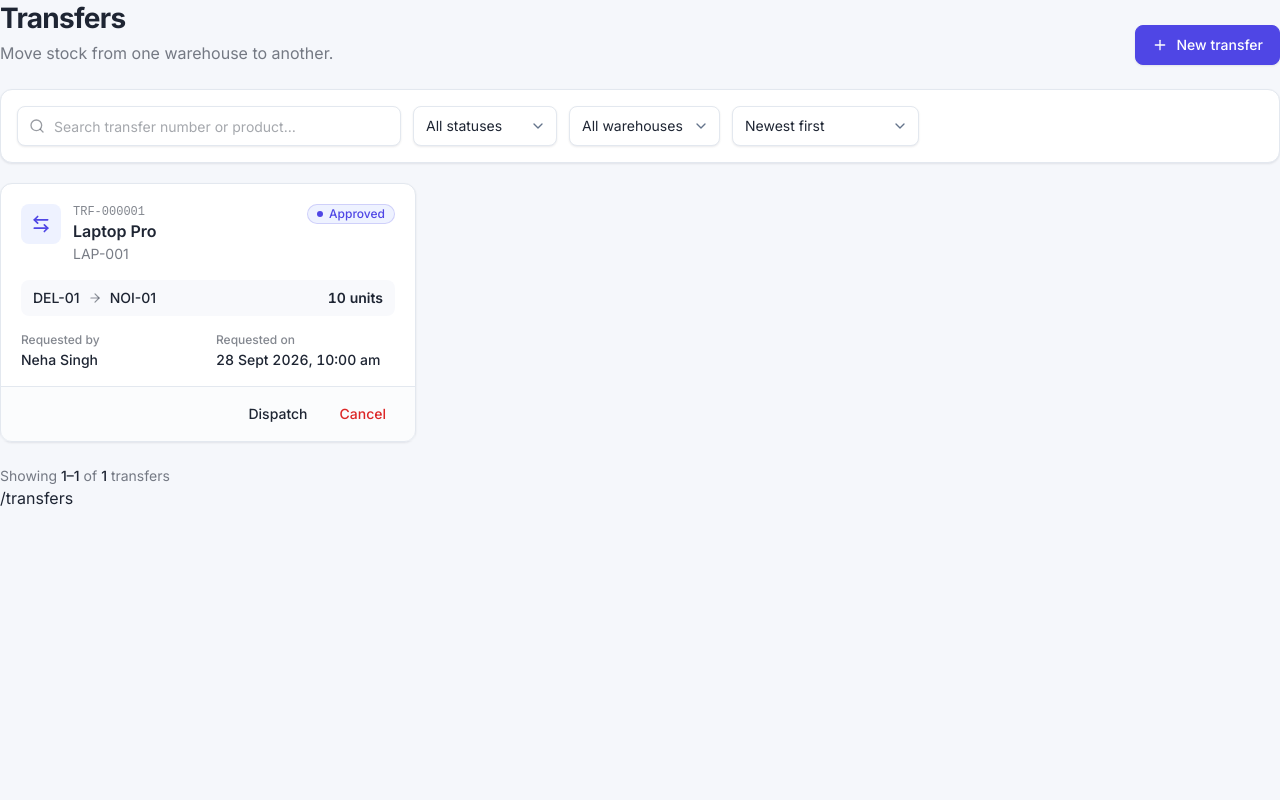
Test case: TransfersPage › cancel works with or without a reason
The image size is (1280, 800).
Click the button with aria-label "Cancel TRF-000001" at x=363, y=414, box [326,397,399,431]
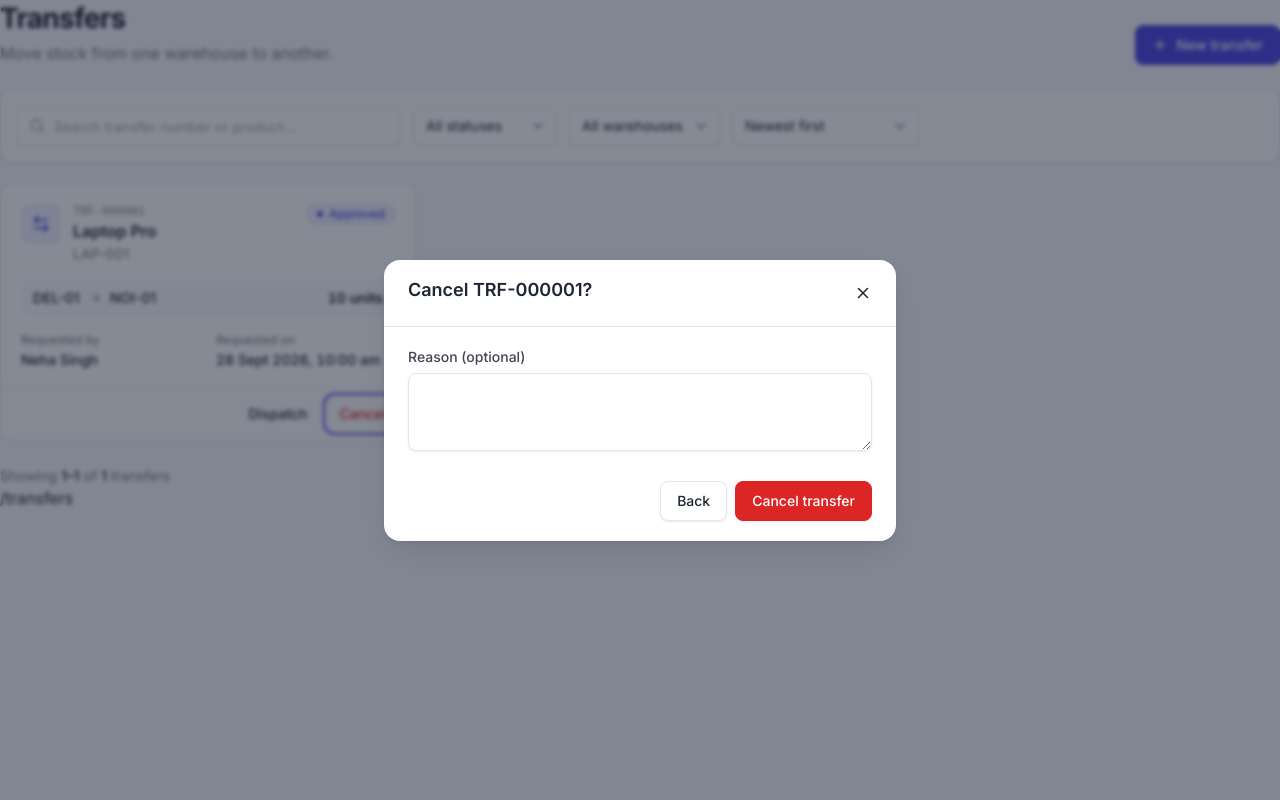
Click the button "Cancel transfer" at x=804, y=500, box [735,480,872,520]
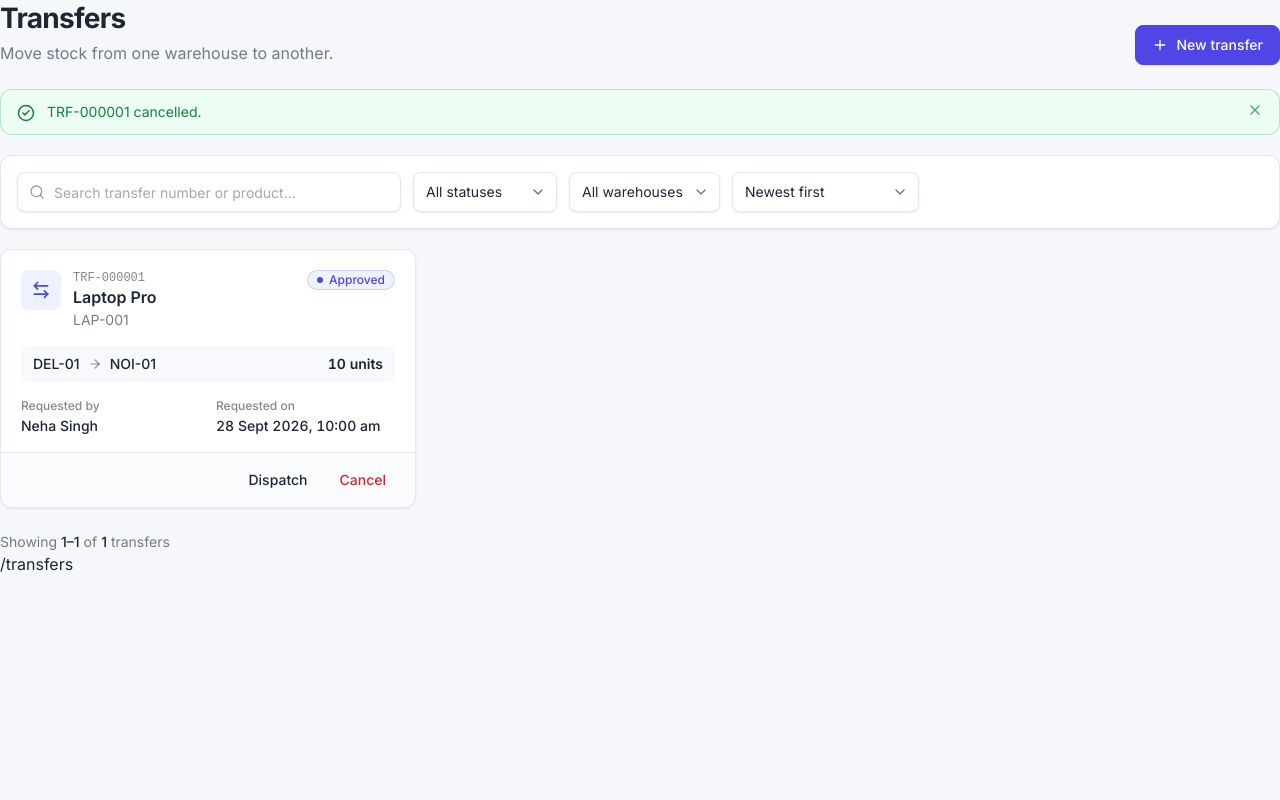
Result: the text "TRF-000001 cancelled." is shown at [47,103,202,120]
